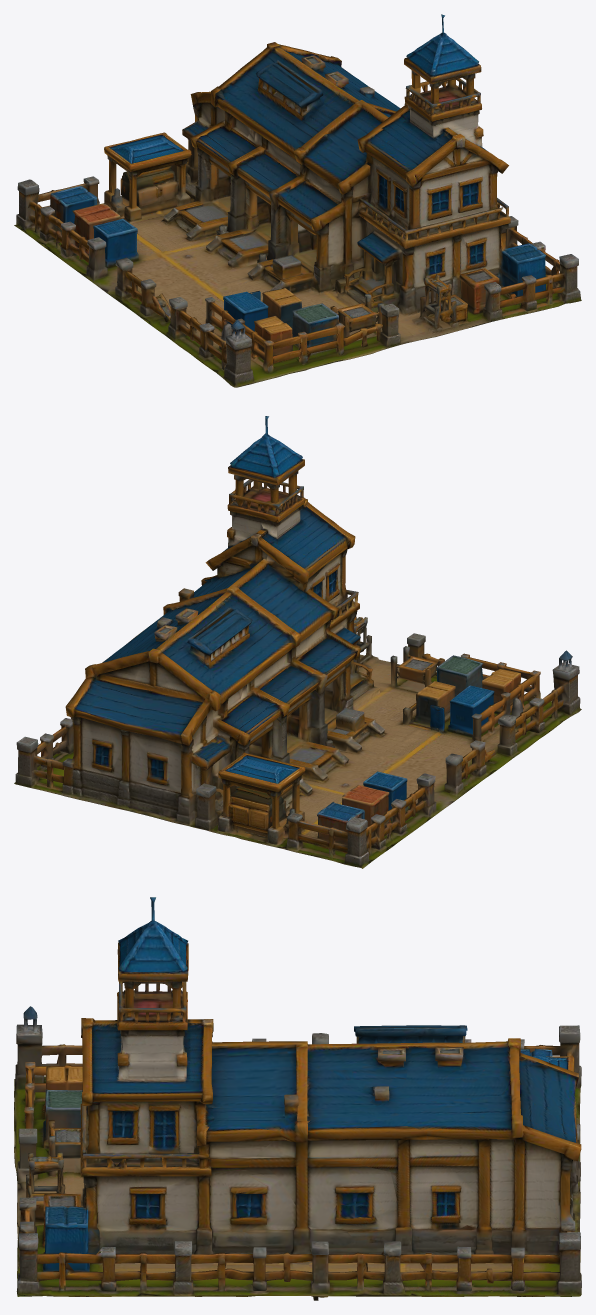
The model's file is depot_stage2.glb.
3 views of the same model, one above another, from view 1: azimuth 30°, elevation 25°; view 2: azimuth 150°, elevation 25°; view 3: azimuth 270°, elevation 25° (orthographic). The views are drawn at different scales.
Parts seen in each view (by area): view 1: tripo_node_bd92623b-55d3-4831-aab6-6d35850e5917; view 2: tripo_node_bd92623b-55d3-4831-aab6-6d35850e5917; view 3: tripo_node_bd92623b-55d3-4831-aab6-6d35850e5917.
Part boxes in pixels (bbox=[...]): tripo_node_bd92623b-55d3-4831-aab6-6d35850e5917: bbox=[14, 14, 581, 387]; tripo_node_bd92623b-55d3-4831-aab6-6d35850e5917: bbox=[14, 416, 581, 868]; tripo_node_bd92623b-55d3-4831-aab6-6d35850e5917: bbox=[14, 897, 581, 1300].
Bounding box in the file's own units: 0.9149 × 0.6861 × 1.
Materials: 1 (1 with a texture image).
